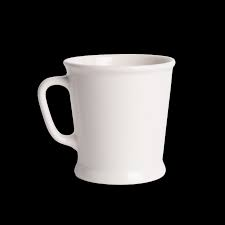mug: (30, 41, 183, 194)
